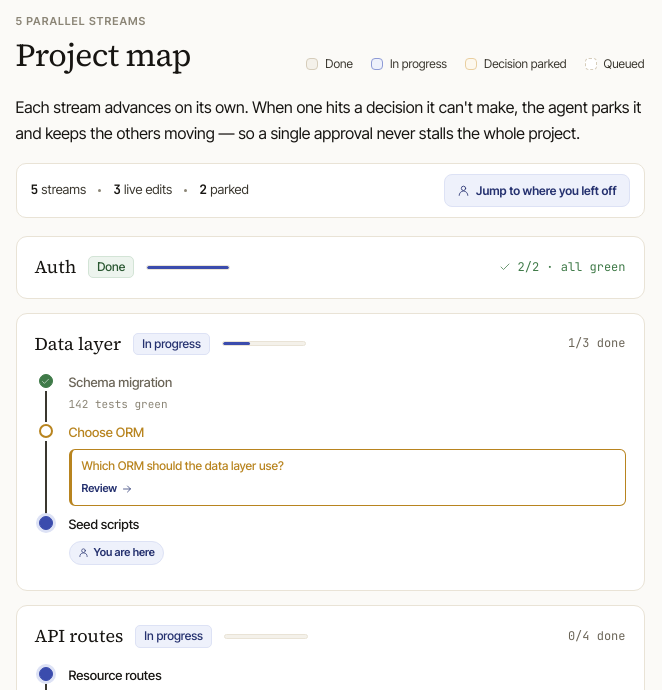
Test case: ProjectMap › expands a done lane when its header is activated
The image size is (662, 690).
What coordinates should you click on to do the following:
click the button "Auth Done 2/2 · all green"
I would click on:
 (55, 266)
Its box is [34,253,626,282].
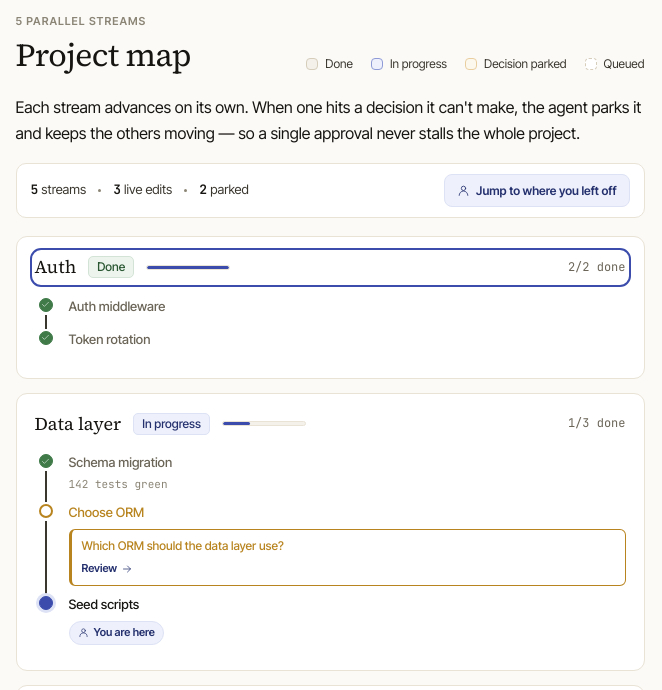
Expected: the button "Auth Done 2/2 done" is expanded, [34,253,626,282]
Expected: the text "Auth middleware" is shown, [68,298,165,314]
Expected: the text "Token rotation" is shown, [68,331,150,347]
